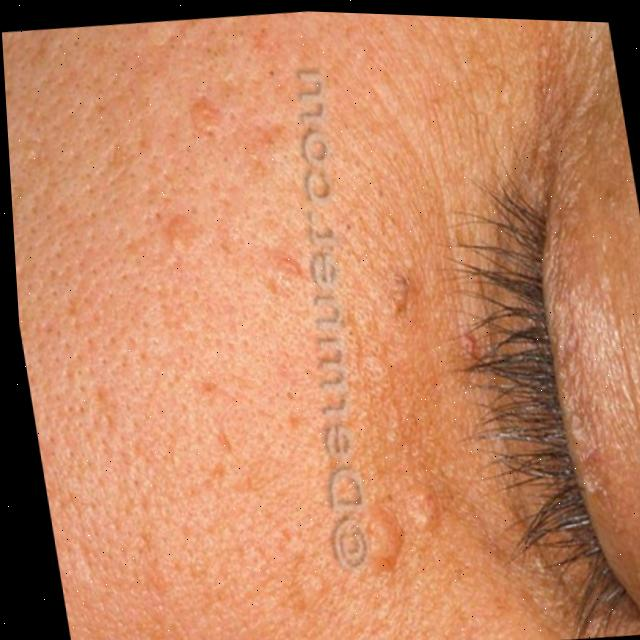Eczema: (345, 510, 448, 567), (252, 231, 314, 308), (185, 70, 228, 132), (159, 218, 210, 262)
